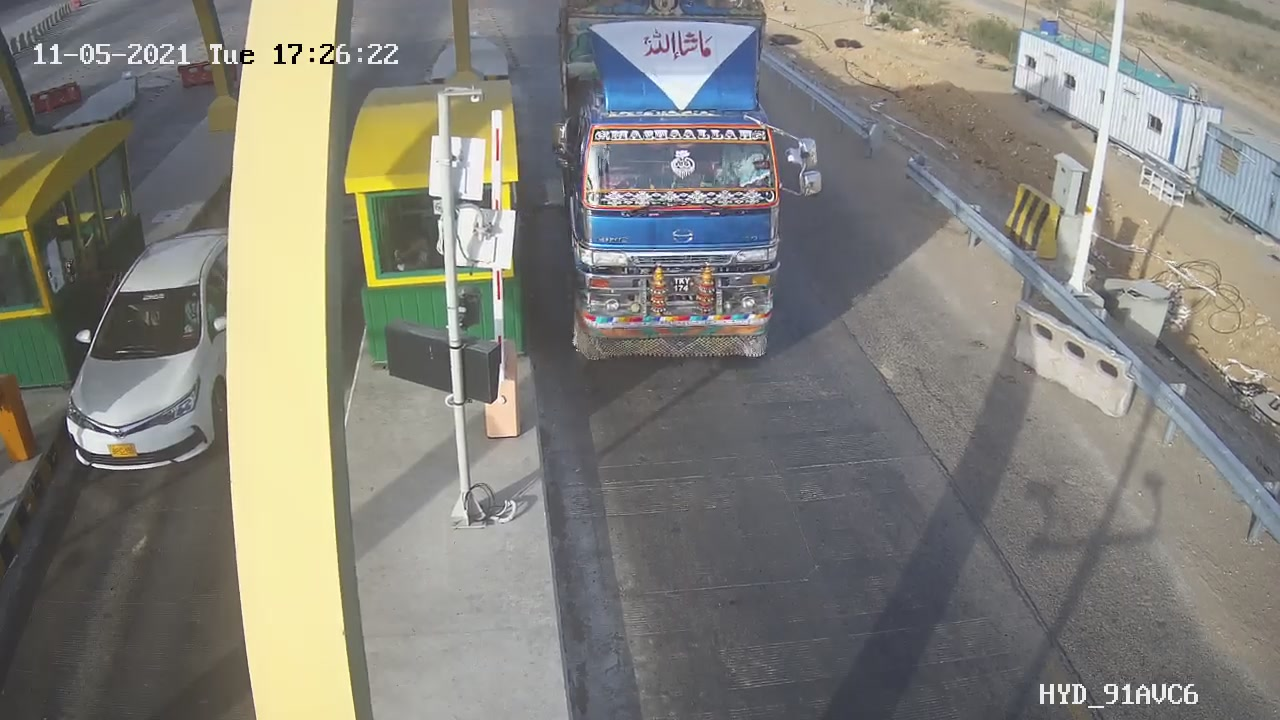F6: (533, 1, 834, 395)
